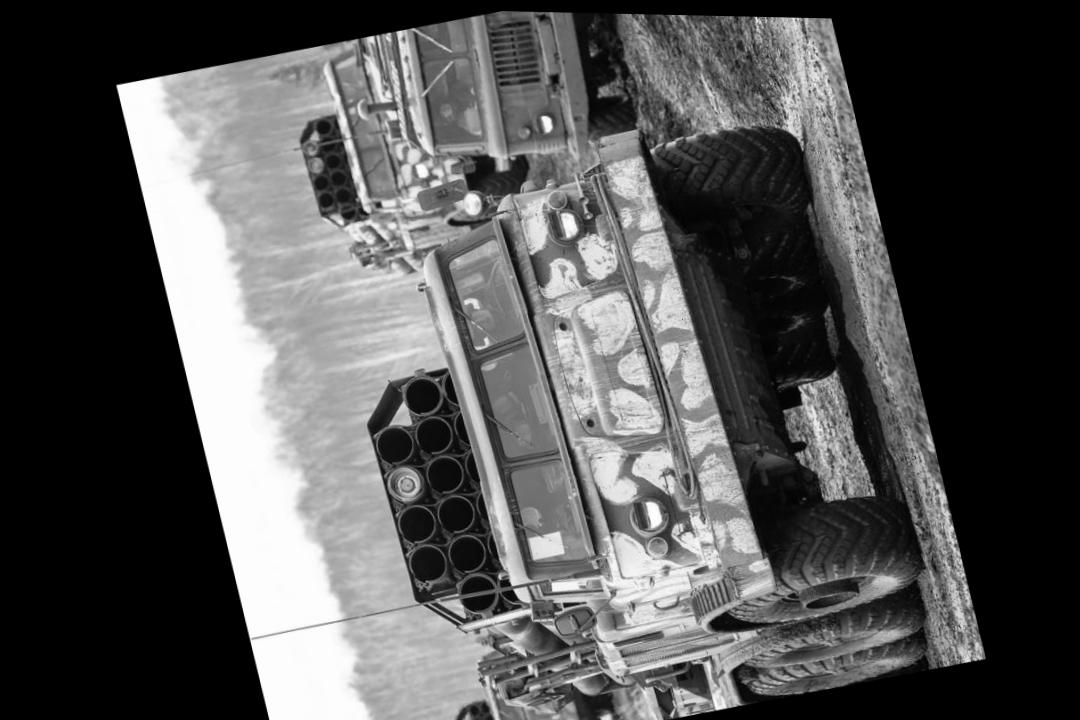rszo: (303, 83, 950, 720), (275, 13, 550, 296), (436, 624, 626, 720)
truck: (338, 8, 651, 203)
